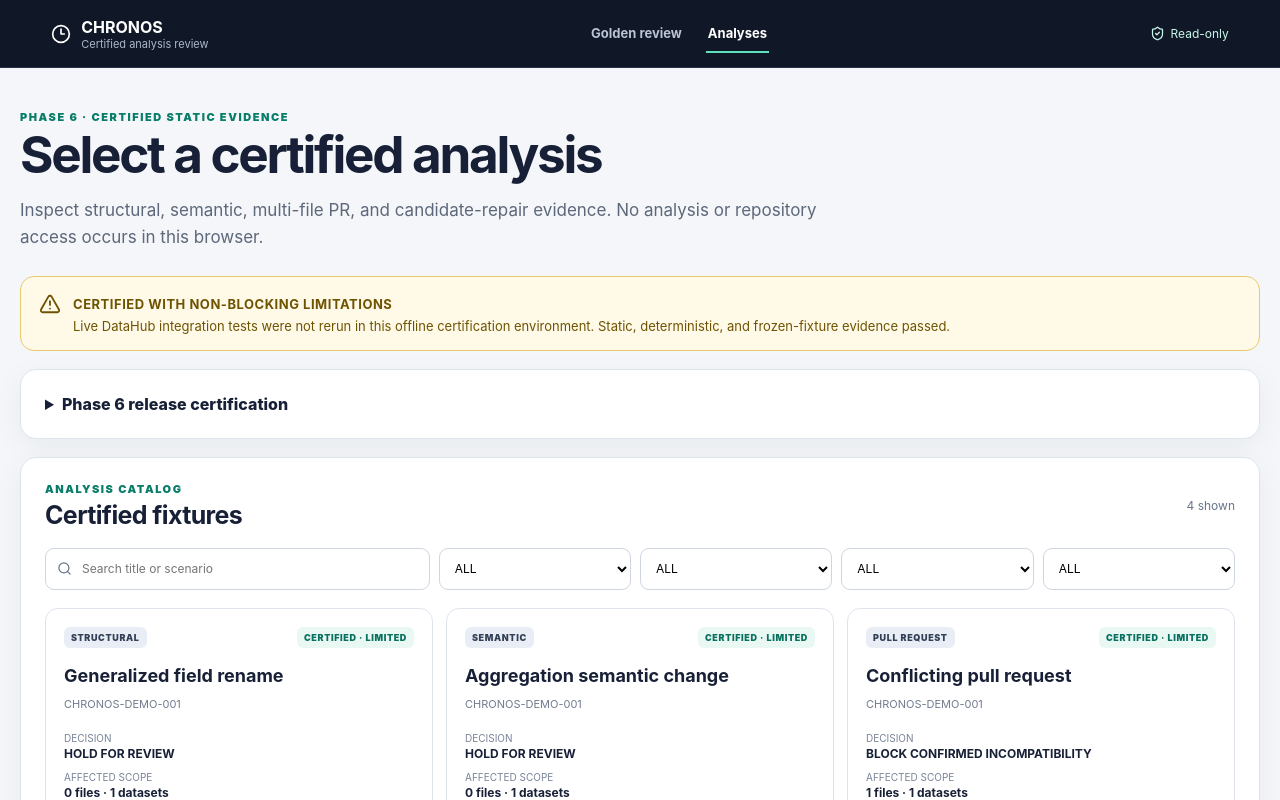
Test case: Phase 6 certified analysis index › searches by title or scenario
Expected: the heading "Generalized field rename" is shown, [64,665,284,686]
Type "Aggregation" into the field with placeholder "Search title or scenario" at x=237, y=569, box [45,548,430,590]
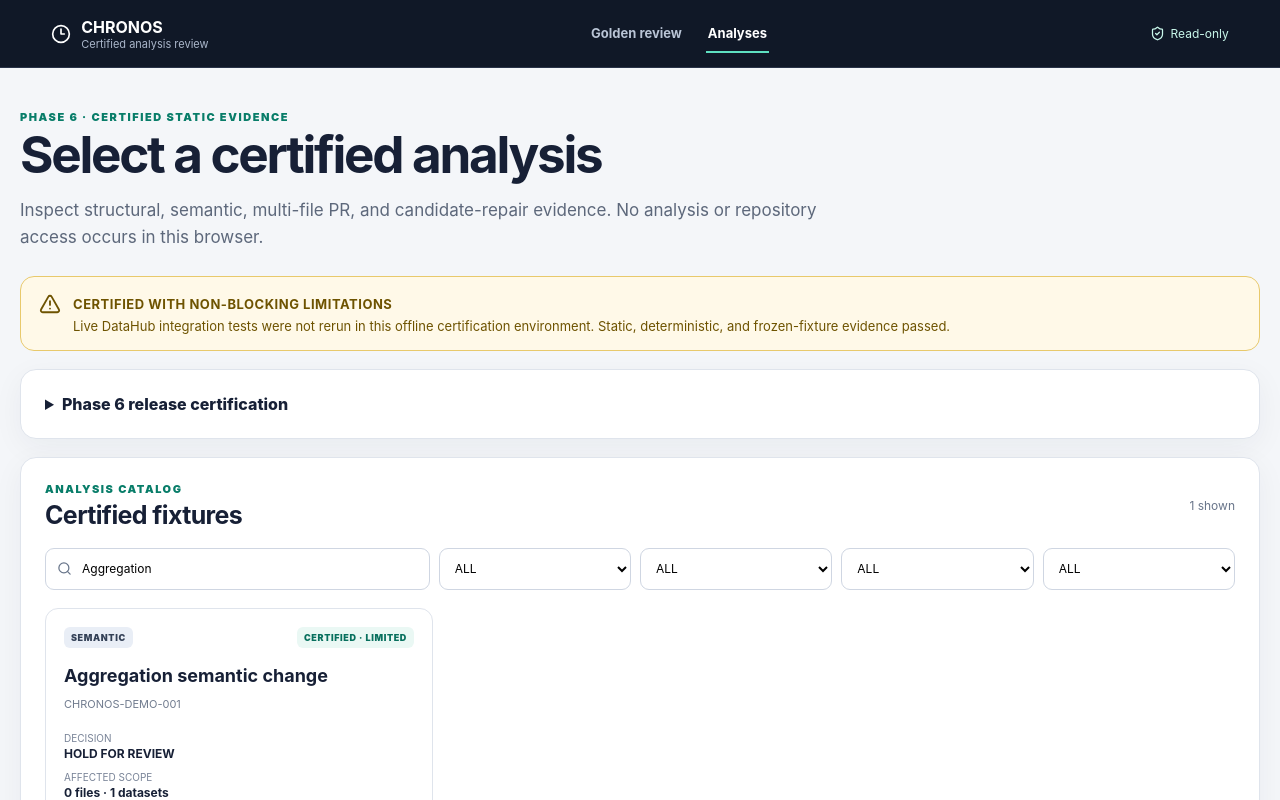
Expected: the heading "Aggregation semantic change" is shown, [64,665,328,686]
Expected: the link "Conflicting pull request" is gone
